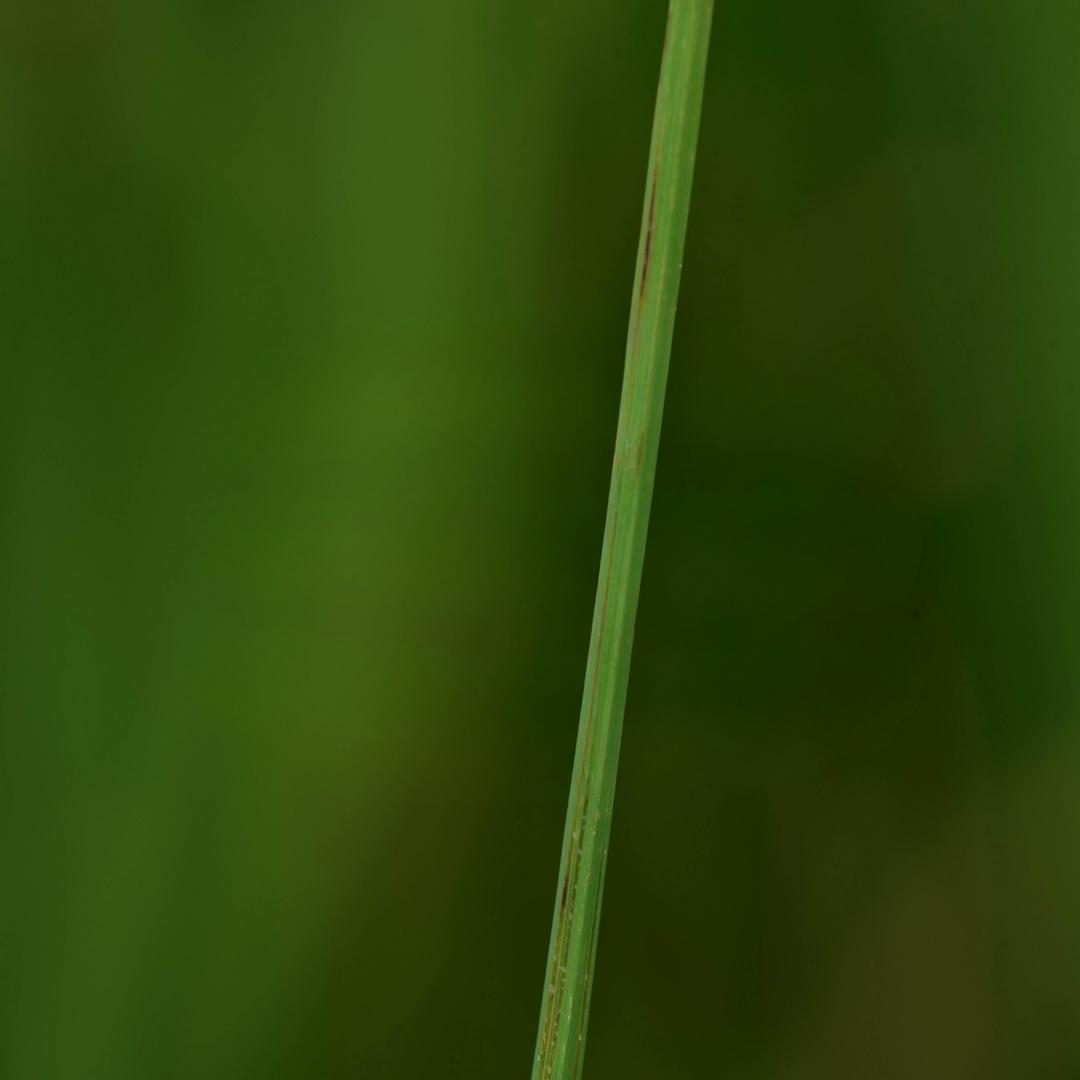BLS: (537, 509, 616, 1079), (546, 743, 592, 1079), (574, 844, 604, 1079), (637, 125, 661, 311)
